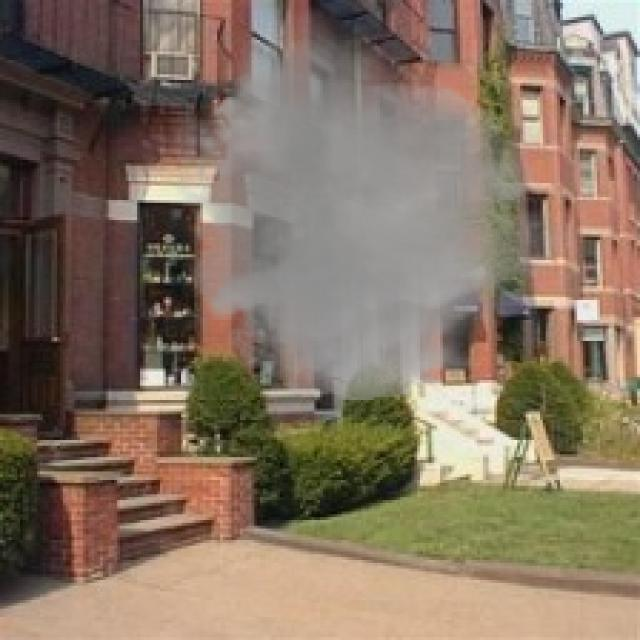Smoke: (155, 6, 580, 412)
